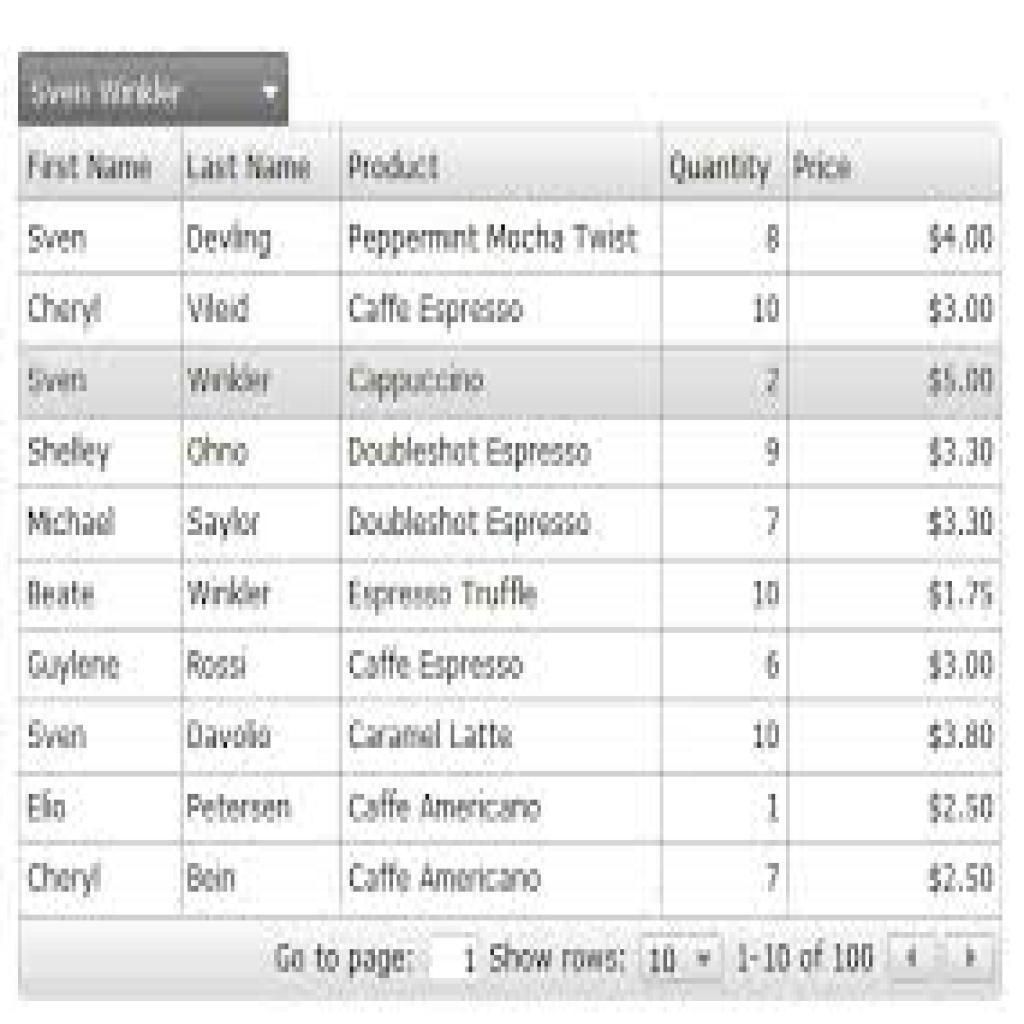dropdown: (18, 54, 290, 127), (640, 936, 722, 981)
icon: (948, 934, 996, 983), (891, 932, 933, 984)
input: (430, 934, 478, 982)
label: (274, 938, 422, 984), (487, 938, 631, 981), (735, 937, 878, 980)
table: (21, 134, 1001, 915)
